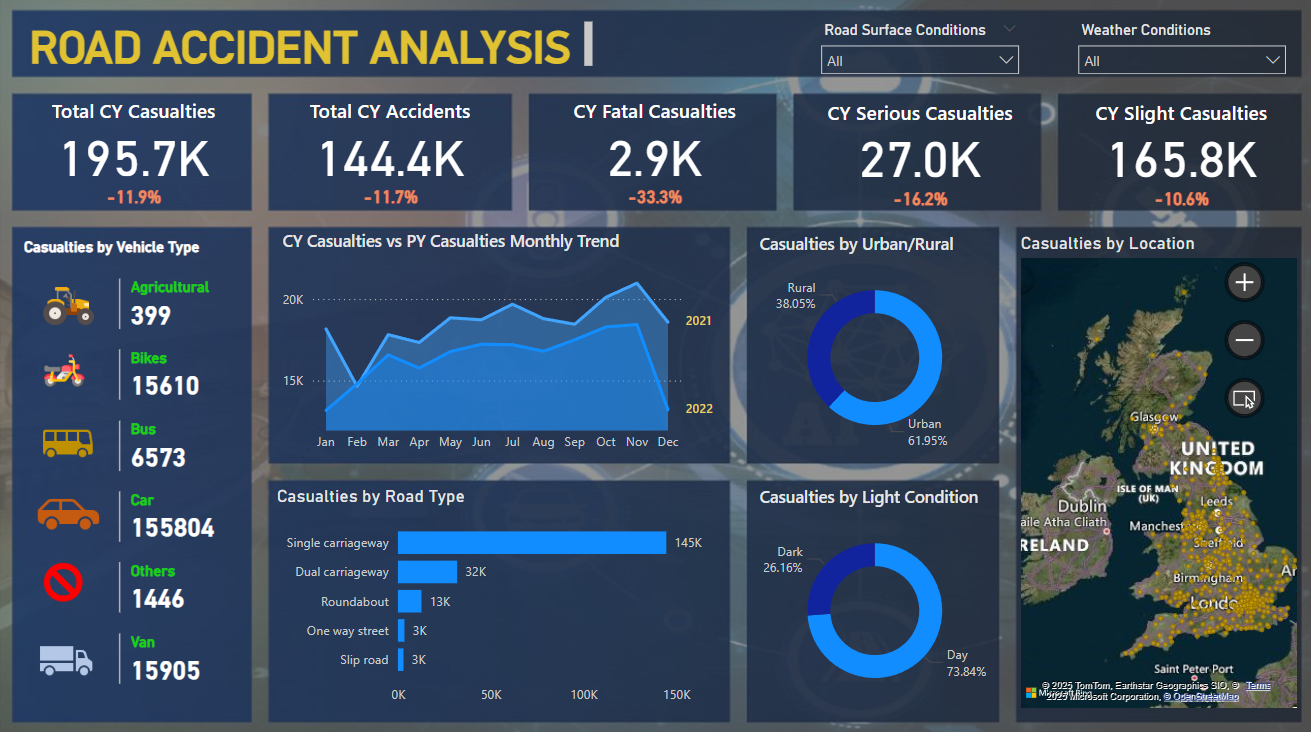

What the dashboard file says about the page in this screenshot:
{"tool":"powerbi","page":{"name":"Page 1","canvas":[1280,720],"ordinal":0},"visuals":[{"type":"group","id":"g1","title":"Group 1","box":[18.6,97.1,232.8,113.1],"z":0},{"type":"card","title":"Total CY Casualties ","fields":{"Values":["Data.Total Casualties"]},"box":[18.6,97.1,232.8,81.1],"z":0,"group":"g4"},{"type":"card","title":"Total CY Accidents","fields":{"Values":["Data.CY Accident"]},"box":[262.1,97.1,242.1,81.1],"z":0,"group":"g2"},{"type":"card","title":" CY Fatal Casualties ","fields":{"Values":["Data.Total Casualties"]},"box":[522.8,97.1,232.8,81.1],"z":0,"group":"g5"},{"type":"card","title":" CY Serious Casualties ","fields":{"Values":["Data.Total Casualties"]},"box":[779.6,98.4,232.8,81.1],"z":0,"group":"g6"},{"type":"card","title":"CY Slight Casualties ","fields":{"Values":["Data.Total Casualties"]},"box":[1032.3,98.4,232.8,81.1],"z":0,"group":"g7"},{"type":"multiRowCard","fields":{"Values":["Data.Vehicle_Type (groups)","Data.CY Casualties"]},"box":[115.7,267.4,275.4,425.7],"z":0,"group":"g10"},{"type":"group","id":"g2","title":"Group 1","box":[262.1,97.1,242.1,113.1],"z":1000},{"type":"image","box":[30.6,609.3,78.5,65.2],"z":1000,"group":"g10"},{"type":"group","id":"g3","title":"Group 1","box":[522.8,97.1,232.8,113.1],"z":2000},{"type":"image","box":[21.3,400.4,99.8,62.5],"z":2000,"group":"g10"},{"type":"group","id":"g4","title":"Group 2","box":[18.6,97.1,232.8,113.1],"z":2001,"group":"g1"},{"type":"group","id":"g5","title":"Group 2","box":[522.8,97.1,232.8,113.1],"z":2001,"group":"g3"},{"type":"group","id":"g6","title":"Group 2","box":[779.6,98.4,232.8,113.1],"z":2001,"group":"g8"},{"type":"group","id":"g7","title":"Group 2","box":[1032.3,98.4,232.8,113.1],"z":2001,"group":"g9"},{"type":"group","id":"g8","title":"Group 1","box":[779.6,98.4,232.8,113.1],"z":3000},{"type":"card","fields":{"Values":["Data.YoY Casualties"]},"box":[79.8,178.2,110.4,31.9],"z":3000,"group":"g4"},{"type":"card","fields":{"Values":["Data.Accident YoY"]},"box":[325.7,178.2,114.8,31.9],"z":3000,"group":"g2"},{"type":"card","fields":{"Values":["Data.YoY Casualties"]},"box":[584,178.2,110.4,31.9],"z":3000,"group":"g5"},{"type":"card","fields":{"Values":["Data.YoY Casualties"]},"box":[840.8,179.5,110.4,31.9],"z":3000,"group":"g6"},{"type":"card","fields":{"Values":["Data.YoY Casualties"]},"box":[1093.5,179.5,110.4,31.9],"z":3000,"group":"g7"},{"type":"image","box":[34.6,537.5,65.2,57.2],"z":3000,"group":"g10"},{"type":"group","id":"g9","title":"Group 1","box":[1032.3,98.4,232.8,113.1],"z":4000},{"type":"image","box":[34.6,463,74.5,74.5],"z":4000,"group":"g10"},{"type":"textbox","box":[29.3,18.6,554.7,55.9],"z":5000},{"type":"image","box":[21.3,267.4,101.1,62.5],"z":5000,"group":"g10"},{"type":"group","id":"g10","title":"Group 3","box":[18.6,267.4,372.5,425.7],"z":6000},{"type":"image","box":[18.6,336.6,98.4,49.2],"z":6000,"group":"g10"},{"type":"textbox","box":[23.9,227.5,230.1,39.9],"z":7000},{"type":"areaChart","title":"CY Casualties vs PY Casualties Monthly Trend","fields":{"Category":["Calendar.Month"],"Y":["Sum(Data.Number_of_Casualties)"],"Series":["Calendar.Date.Variation.Date Hierarchy.Year"]},"box":[274,224.8,429.7,223.5],"z":8000},{"type":"donutChart","title":"Casualties by Urban/Rural","fields":{"Category":["Data.Urban_or_Rural_Area"],"Y":["Data.CY Casualties"]},"box":[735.7,227.5,232.8,220.8],"z":9000},{"type":"donutChart","title":"Casualties by Light Condition","fields":{"Y":["Data.CY Casualties"],"Category":["Data.Light_Conditions (groups)"]},"box":[735.7,472.3,232.8,220.8],"z":10000},{"type":"barChart","title":"Casualties by Road Type","fields":{"Category":["Data.Road_Type"],"Y":["Data.CY Casualties"]},"box":[268.7,472.3,441.7,220.8],"z":11000},{"type":"map","title":"Casualties by Location","fields":{"X":["Data.Longitude"],"Y":["Data.Latitude"],"Category":["Data.Local_Authority_(District)"]},"box":[988.4,227.5,276.7,465.6],"z":12000},{"type":"slicer","fields":{"Values":["Data.Weather_Conditions (groups)"]},"box":[1039,18.6,220.8,55.9],"z":13000},{"type":"slicer","fields":{"Values":["Data.Road_Surface_Conditions (groups)"]},"box":[790.2,18.6,211.5,55.9],"z":14000}]}

Visuals, with their boxes in screenshot pixels (x1, y1, x2, y2), scaled from the page's 1280x720 canvas onto the 1311x732 screenshot:
"Group 1" group: pyautogui.locateOnScreen(19, 99, 257, 214)
"Total CY Casualties " card: pyautogui.locateOnScreen(19, 99, 257, 181)
"Total CY Accidents" card: pyautogui.locateOnScreen(268, 99, 516, 181)
" CY Fatal Casualties " card: pyautogui.locateOnScreen(535, 99, 774, 181)
" CY Serious Casualties " card: pyautogui.locateOnScreen(798, 100, 1037, 182)
"CY Slight Casualties " card: pyautogui.locateOnScreen(1057, 100, 1296, 182)
multiRowCard - Data.Vehicle_Type (groups) x Data.CY Casualties: pyautogui.locateOnScreen(119, 272, 401, 705)
"Group 1" group: pyautogui.locateOnScreen(268, 99, 516, 214)
image: pyautogui.locateOnScreen(31, 619, 112, 686)
"Group 1" group: pyautogui.locateOnScreen(535, 99, 774, 214)
image: pyautogui.locateOnScreen(22, 407, 124, 471)
"Group 2" group: pyautogui.locateOnScreen(19, 99, 257, 214)
"Group 2" group: pyautogui.locateOnScreen(535, 99, 774, 214)
"Group 2" group: pyautogui.locateOnScreen(798, 100, 1037, 215)
"Group 2" group: pyautogui.locateOnScreen(1057, 100, 1296, 215)
"Group 1" group: pyautogui.locateOnScreen(798, 100, 1037, 215)
card - Data.YoY Casualties: pyautogui.locateOnScreen(82, 181, 195, 214)
card - Data.Accident YoY: pyautogui.locateOnScreen(334, 181, 451, 214)
card - Data.YoY Casualties: pyautogui.locateOnScreen(598, 181, 711, 214)
card - Data.YoY Casualties: pyautogui.locateOnScreen(861, 182, 974, 215)
card - Data.YoY Casualties: pyautogui.locateOnScreen(1120, 182, 1233, 215)
image: pyautogui.locateOnScreen(35, 546, 102, 605)
"Group 1" group: pyautogui.locateOnScreen(1057, 100, 1296, 215)
image: pyautogui.locateOnScreen(35, 471, 112, 546)
textbox: pyautogui.locateOnScreen(30, 19, 598, 76)
image: pyautogui.locateOnScreen(22, 272, 125, 335)
"Group 3" group: pyautogui.locateOnScreen(19, 272, 401, 705)
image: pyautogui.locateOnScreen(19, 342, 120, 392)
textbox: pyautogui.locateOnScreen(24, 231, 260, 272)
"CY Casualties vs PY Casualties Monthly Trend" areaChart: pyautogui.locateOnScreen(281, 229, 721, 456)
"Casualties by Urban/Rural" donutChart: pyautogui.locateOnScreen(754, 231, 992, 456)
"Casualties by Light Condition" donutChart: pyautogui.locateOnScreen(754, 480, 992, 705)
"Casualties by Road Type" barChart: pyautogui.locateOnScreen(275, 480, 728, 705)
"Casualties by Location" map: pyautogui.locateOnScreen(1012, 231, 1296, 705)
slicer - Data.Weather_Conditions (groups): pyautogui.locateOnScreen(1064, 19, 1290, 76)
slicer - Data.Road_Surface_Conditions (groups): pyautogui.locateOnScreen(809, 19, 1026, 76)
